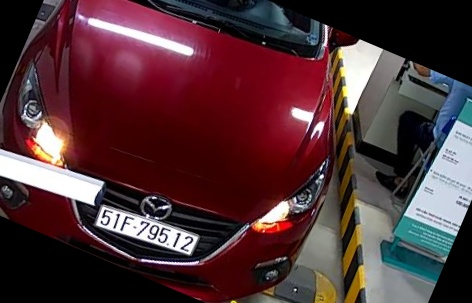plate: (93, 201, 201, 259)
